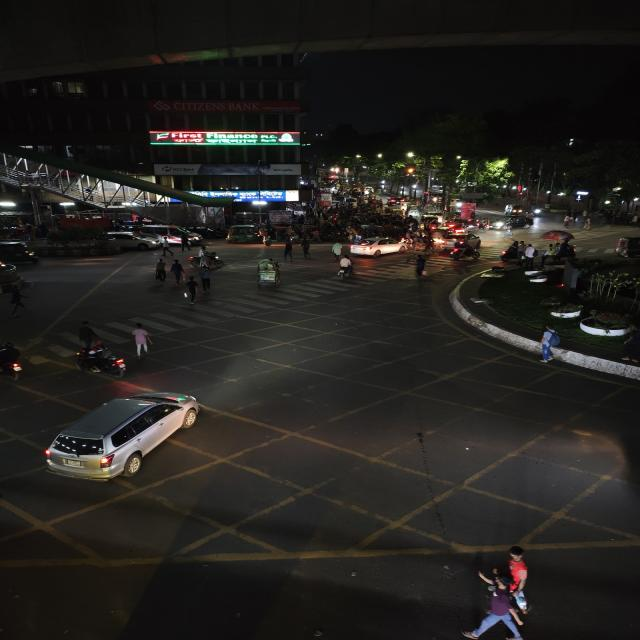car: (36, 388, 210, 486), (115, 223, 212, 251), (349, 233, 405, 259), (0, 238, 41, 266), (492, 214, 534, 230), (454, 217, 481, 233)
cng: (611, 233, 640, 261), (429, 228, 447, 246), (504, 204, 523, 216)
motorcycle: (69, 333, 132, 379), (0, 339, 29, 384), (447, 242, 483, 262)
pedestrian: (475, 543, 546, 640), (537, 319, 563, 367), (127, 321, 155, 364), (1, 279, 30, 317), (333, 254, 357, 281), (180, 275, 200, 306), (409, 253, 431, 279), (197, 264, 215, 292), (152, 258, 169, 286), (170, 259, 186, 287), (581, 212, 595, 232), (524, 243, 536, 266), (563, 215, 571, 229)
rickshaw: (252, 257, 285, 291)
